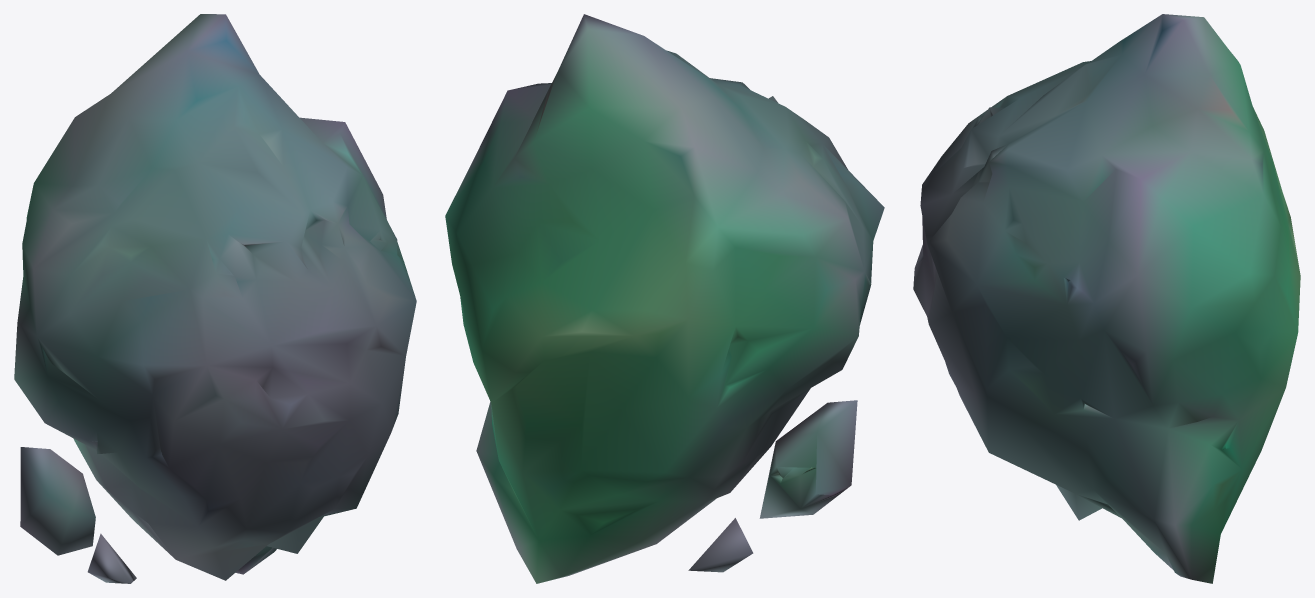
Rendered from nota_mi.glb.
3 views of the same model, side by side, from view 1: azimuth 30°, elevation 25°; view 2: azimuth 150°, elevation 25°; view 3: azimuth 270°, elevation 25° (orthographic). The views are drawn at different scales.
Bounding box in the file's own units: 0.6844 × 0.973 × 0.6226.
